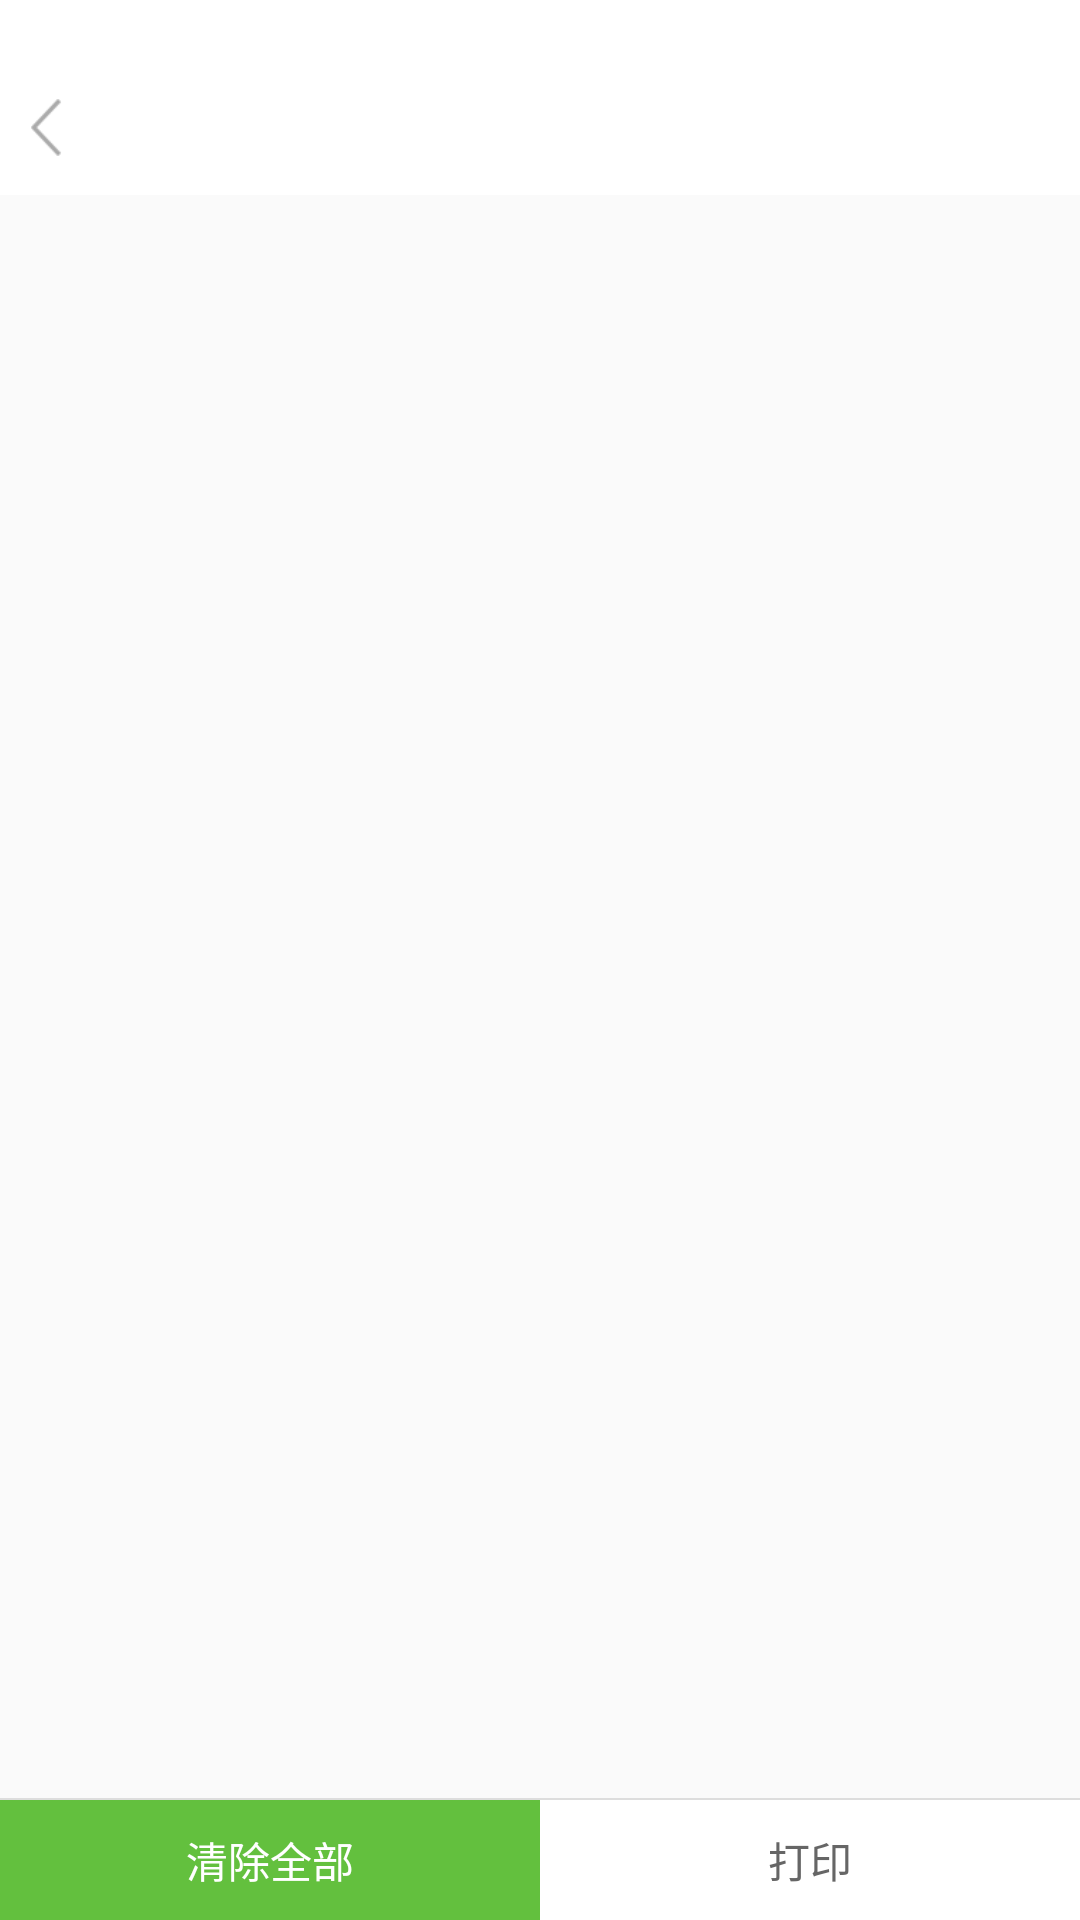

Icons on this 1080 x 1920 Android screen, each with its box as rect(x1, y1, x2, y2):
back: rect(31, 99, 61, 156)
